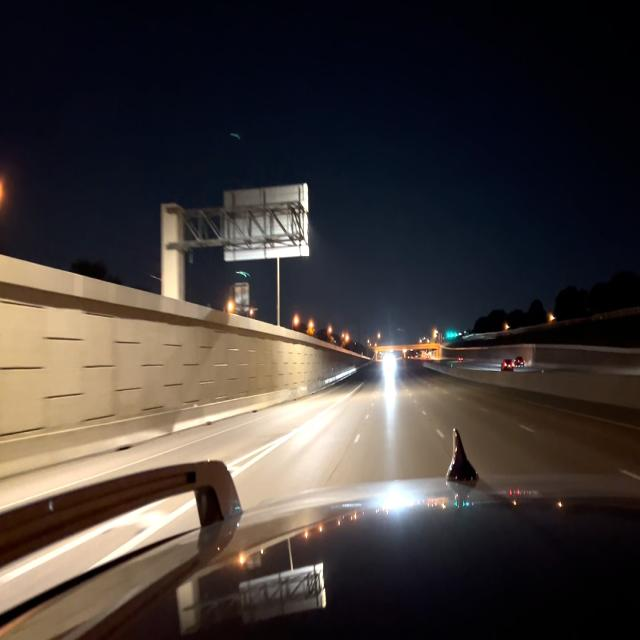back-of-sign: (226, 183, 310, 260), (235, 283, 249, 311)
